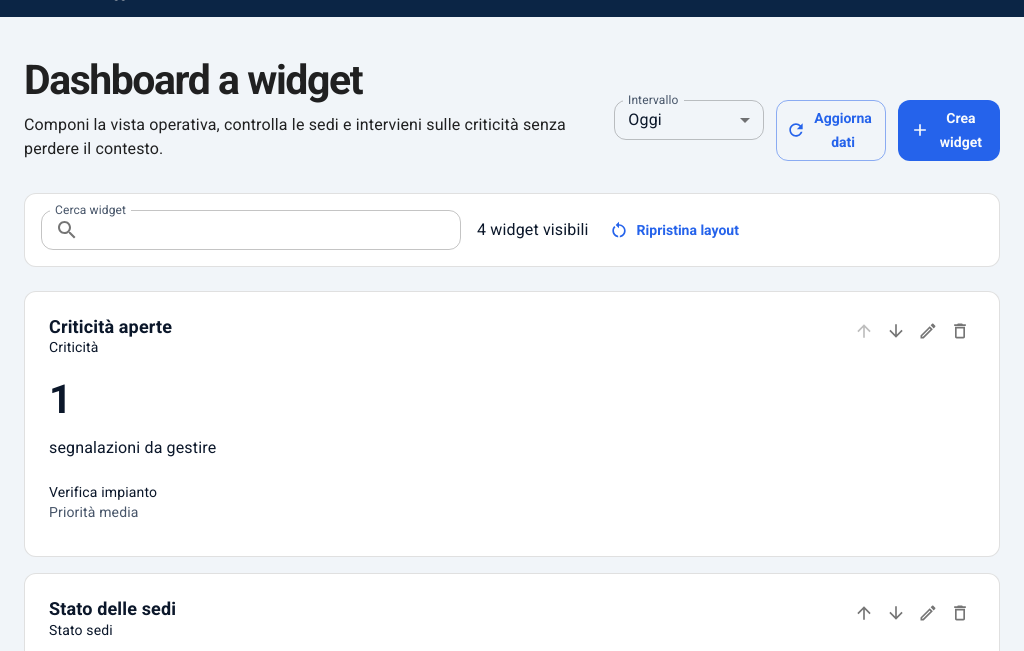
Test case: Widget dashboard soluzione › salva il Dialog con Invio
The width and height of the screenshot is (1024, 651).
Expected: the heading "Criticità aperte" is shown, [49,316,172,337]
Click the button "Crea widget" at (949, 130), box [898,100,1000,161]
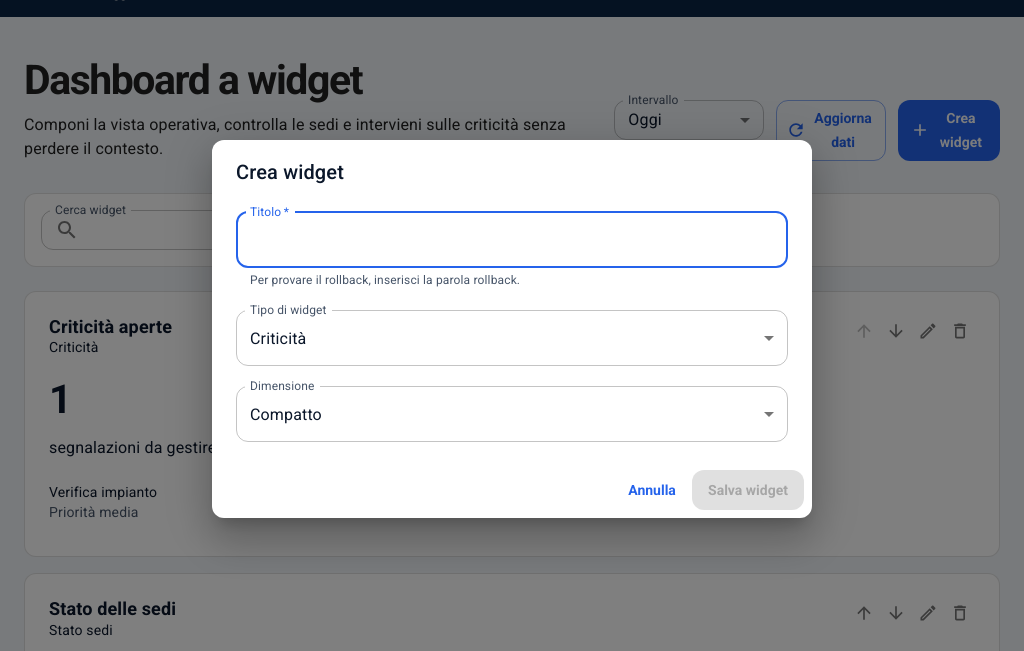
Type "Presidio tastiera" into the field labelled "Titolo" at (512, 240), box [236,212,788,268]
Then press Enter
(page scrolled)
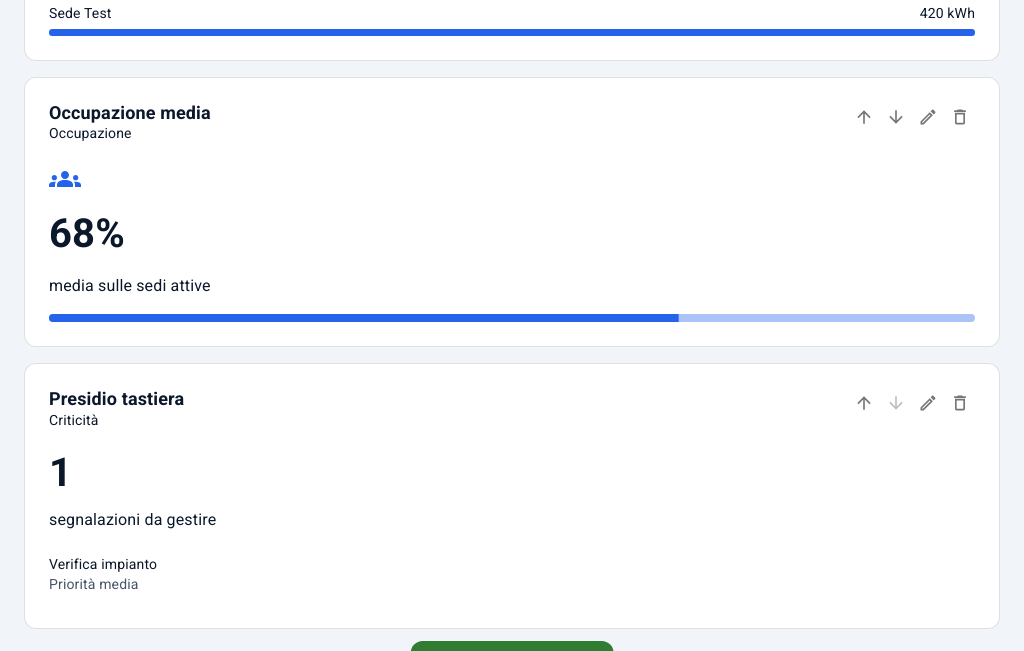
Now the heading "Presidio tastiera" is shown, box [49,388,184,409]
